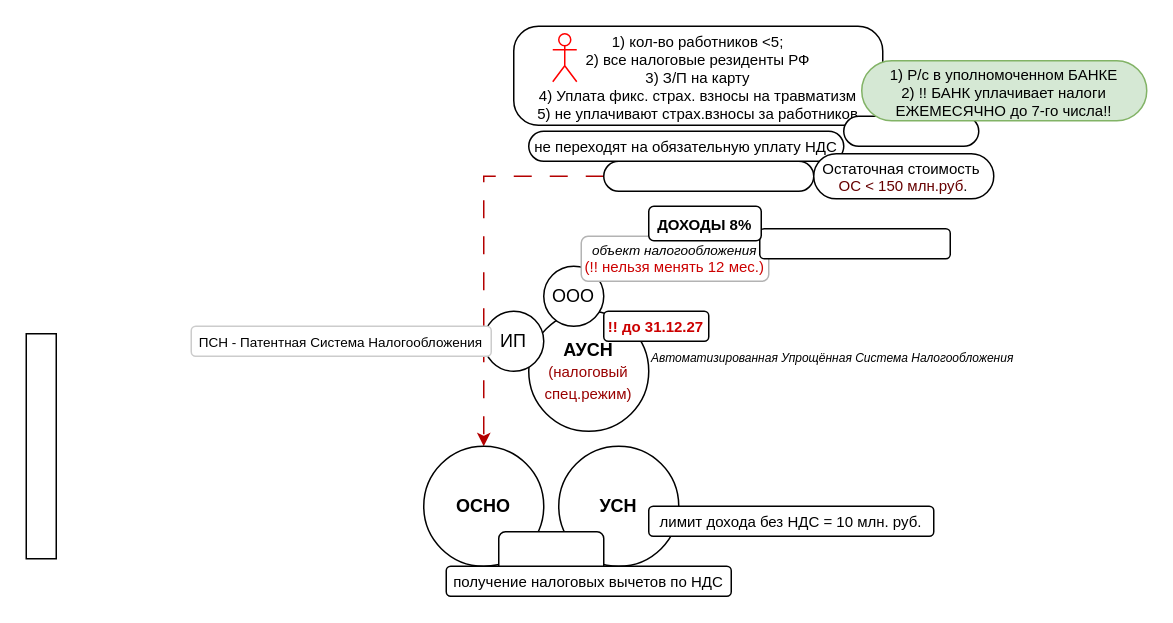
This 1173x623 diagram has some shape labels left out. Each missing label, with the centre of its shape:
без ФИЛИАЛОВ: the point at 910,130
ДОХОДЫ - РАСХОДЫ 20%: the point at 854,243
лимит дохода < 60 млн. руб.: the point at 708,175
НАЛОГОВЫЕ РЕЖИМЫ: the point at 40,445
НДС 22%: the point at 550,553
